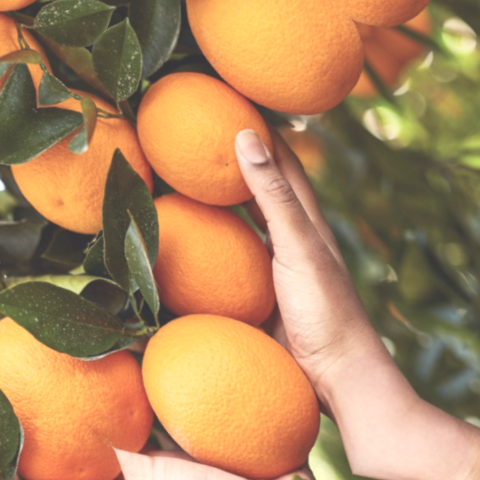orange: (96, 266, 355, 480), (91, 28, 308, 241), (129, 0, 388, 165)
